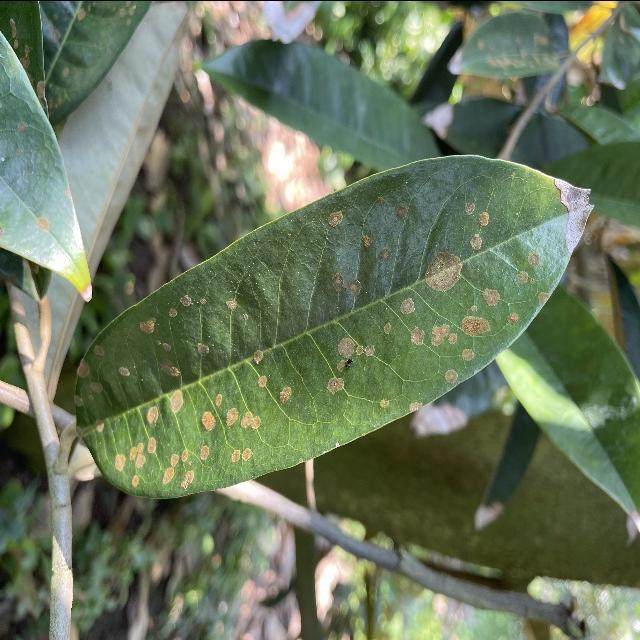Algal Leaf Spot: (65, 149, 599, 509)
